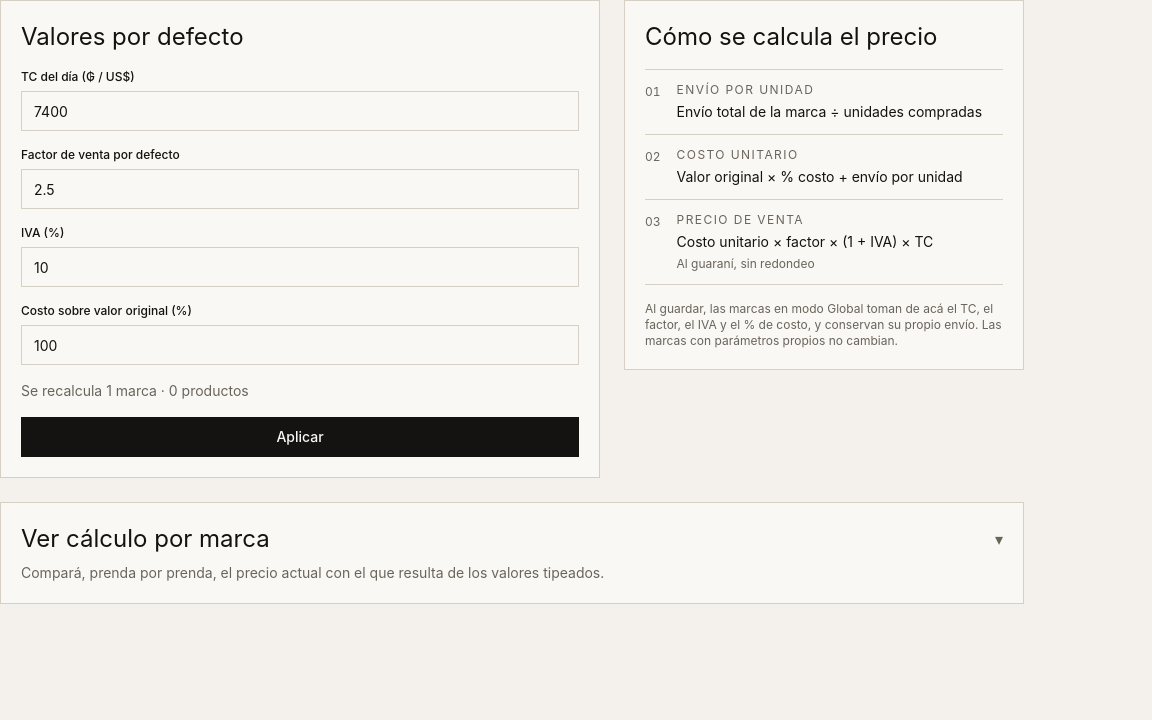
SettingsForm › Ver cálculo por marca › explains a lot without bought units
Click the button "Ver cálculo por marca ▾" at (145,538), box [21,523,1003,555]
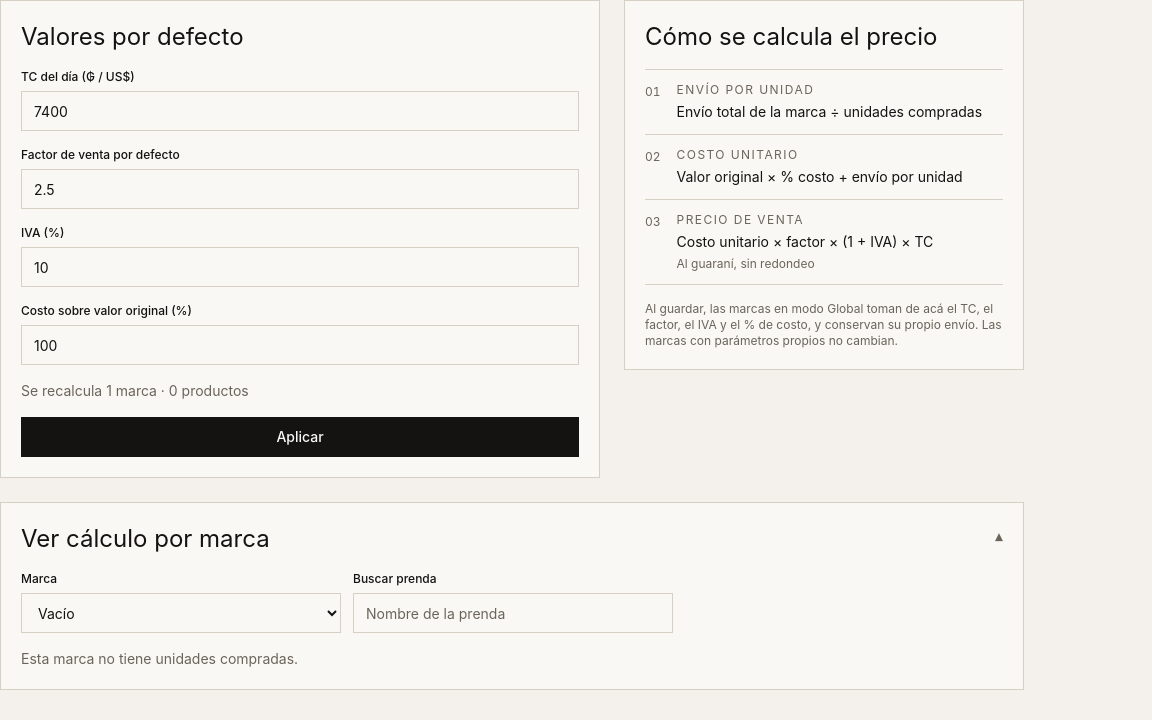
Check: the text "Esta marca no tiene unidades compradas." is shown, box [21,650,298,667]
